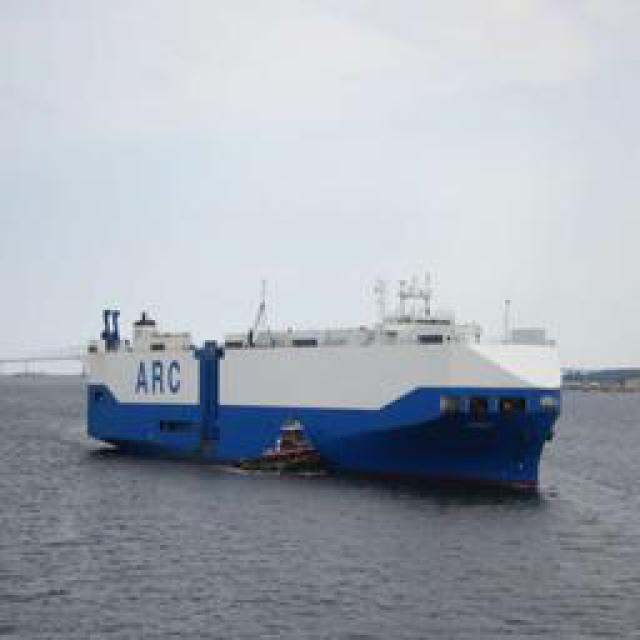Ship: (81, 276, 571, 489)
